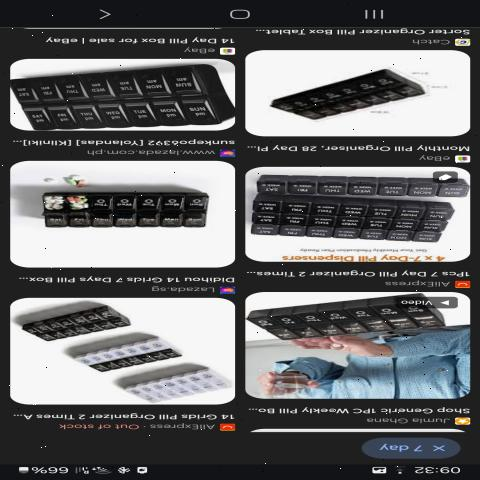PillBox: (9, 65, 227, 129), (244, 192, 464, 252), (243, 298, 451, 359), (257, 59, 442, 126), (29, 184, 224, 237), (22, 304, 145, 346)
